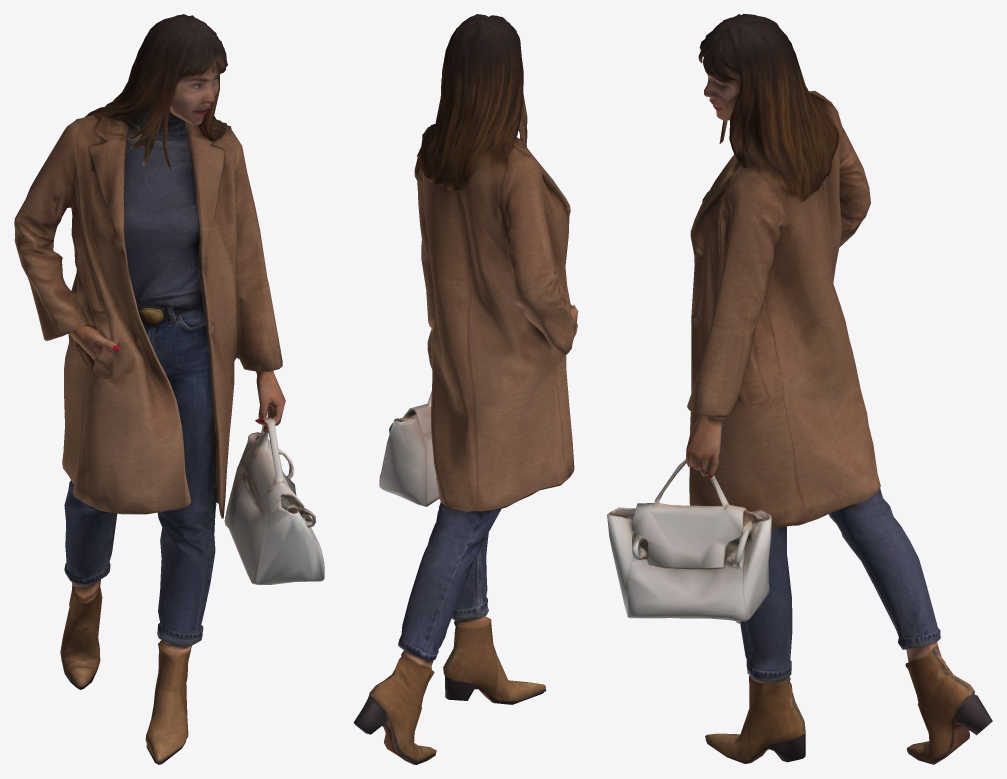
3 renders of one model, left to right at view 1: azimuth 30°, elevation 25°; view 2: azimuth 150°, elevation 25°; view 3: azimuth 270°, elevation 25°, orthographic. The views are drawn at different scales.
Visible parts, largest first — view 1: Object_2.002; view 2: Object_2.002; view 3: Object_2.002.
Part boxes in pixels (x1,y1,x2,y2): Object_2.002: (14,14,324,764); Object_2.002: (353,14,578,764); Object_2.002: (607,14,992,764).
Size of the model in its own units: 0.5927 by 1.74 by 0.8136.
Materials: 1 (1 with a texture image).
